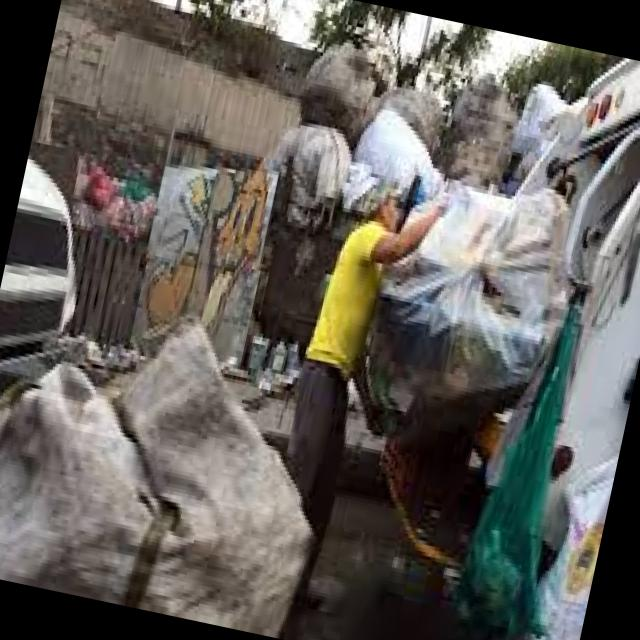garbage: (229, 4, 628, 422)
